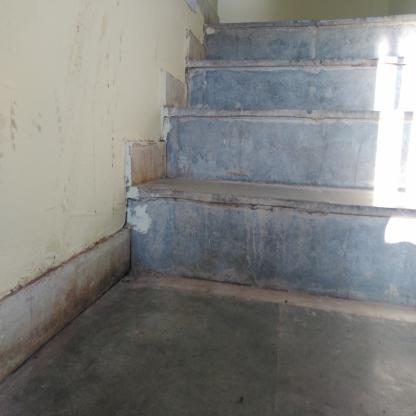stairs: (207, 10, 416, 302)
